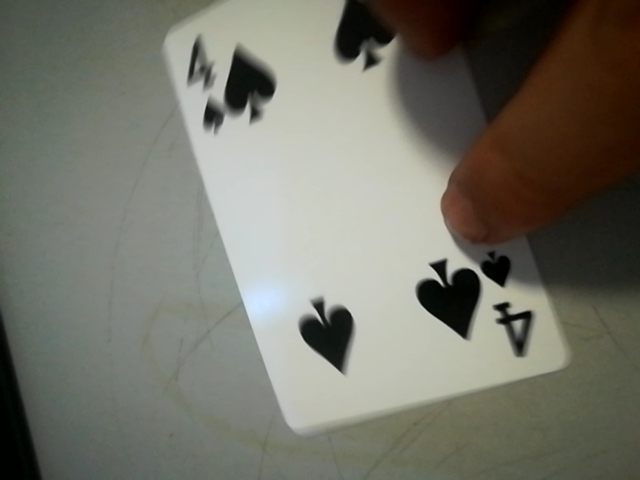ht 4: (460, 235, 553, 368)
